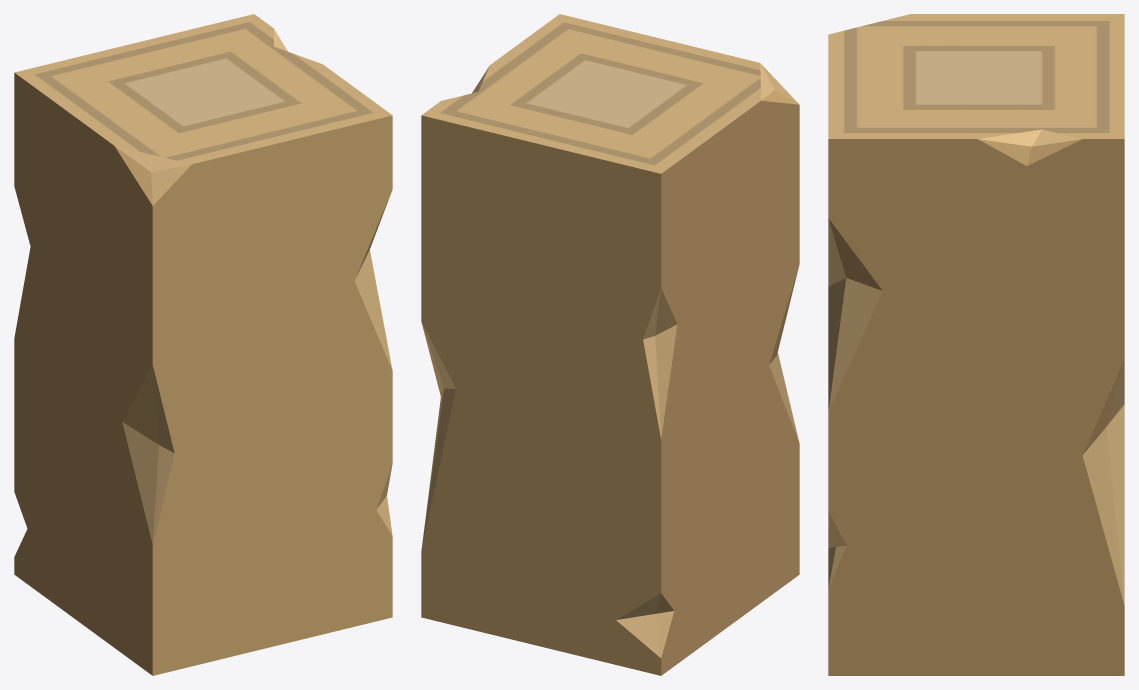
The model's file is ST_Env_Block_08.fbx.
3 renders of one model, left to right at view 1: azimuth 30°, elevation 25°; view 2: azimuth 150°, elevation 25°; view 3: azimuth 270°, elevation 25°, orthographic. The views are drawn at different scales.
Parts seen in each view (by area): view 1: ST_Env_Block_08; view 2: ST_Env_Block_08; view 3: ST_Env_Block_08.
Boxes of the visible parts, box(x1,y1,x2,y2) form: ST_Env_Block_08: box(14, 14, 392, 675); ST_Env_Block_08: box(421, 14, 799, 675); ST_Env_Block_08: box(828, 14, 1124, 675).
Bounding box in the file's own units: 2 × 4 × 2.
